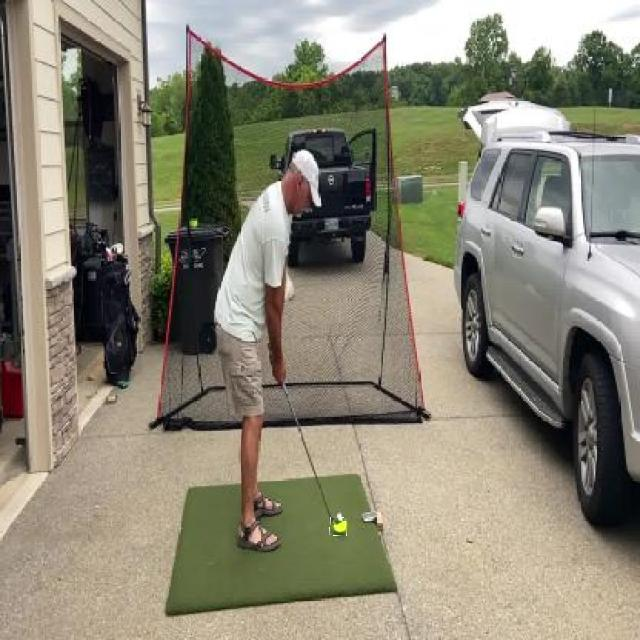club head: (330, 518, 347, 536)
